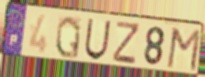4: (27, 13, 50, 56)
8: (143, 26, 166, 67)
M: (165, 26, 202, 73)
Q: (54, 15, 82, 60)
U: (83, 17, 113, 62)
Z: (111, 20, 141, 67)
